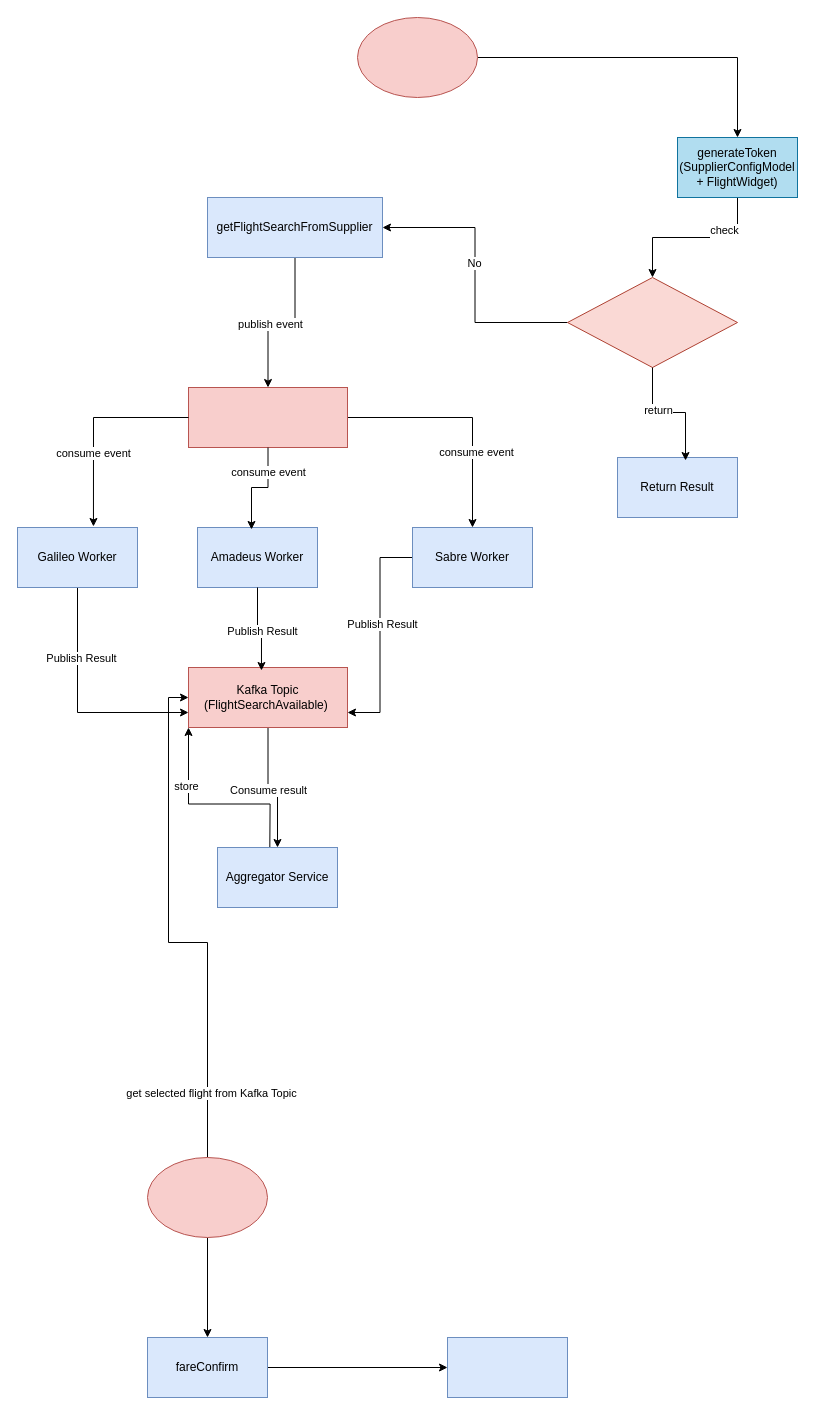
Some shapes in this 815 by 1415 pixel diagram are drawn without their labels. Here are the shapes that lost their labels. From the top down, the box of each, then its label:
(356, 16, 478, 98): Search
(566, 276, 738, 368): token exist in Kafka topic
(188, 386, 348, 448): Kafka Topic (FlightSearchRequested)
(146, 1156, 268, 1238): Book Now
(446, 1336, 568, 1398): BookAndPay
